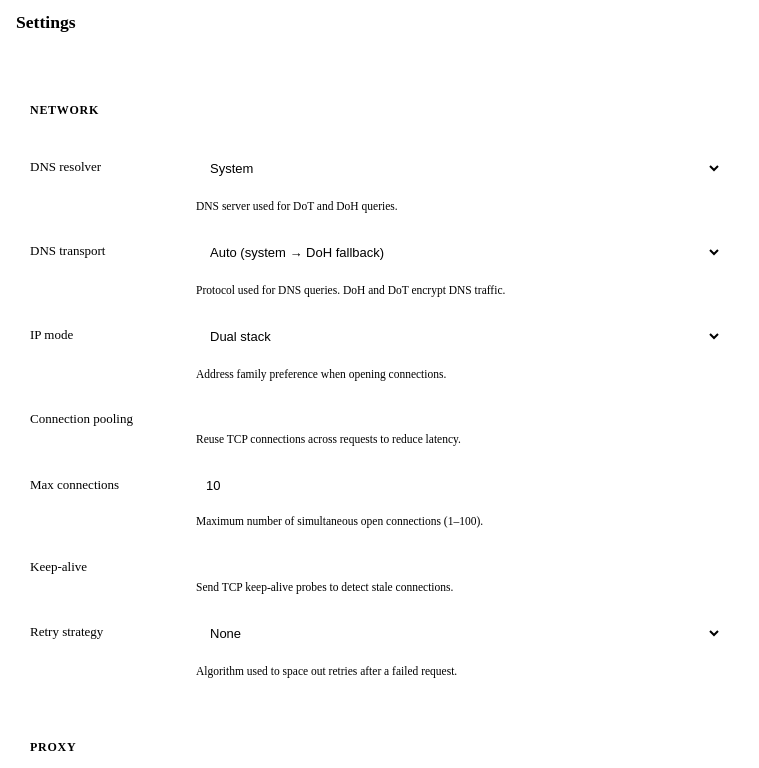
Settings — validation › shows error when max connections exceeds 100
Replace the text in the number field labelled "Max connections" with "200" at {"x": 469, "y": 486}, box [196,471,742,500]
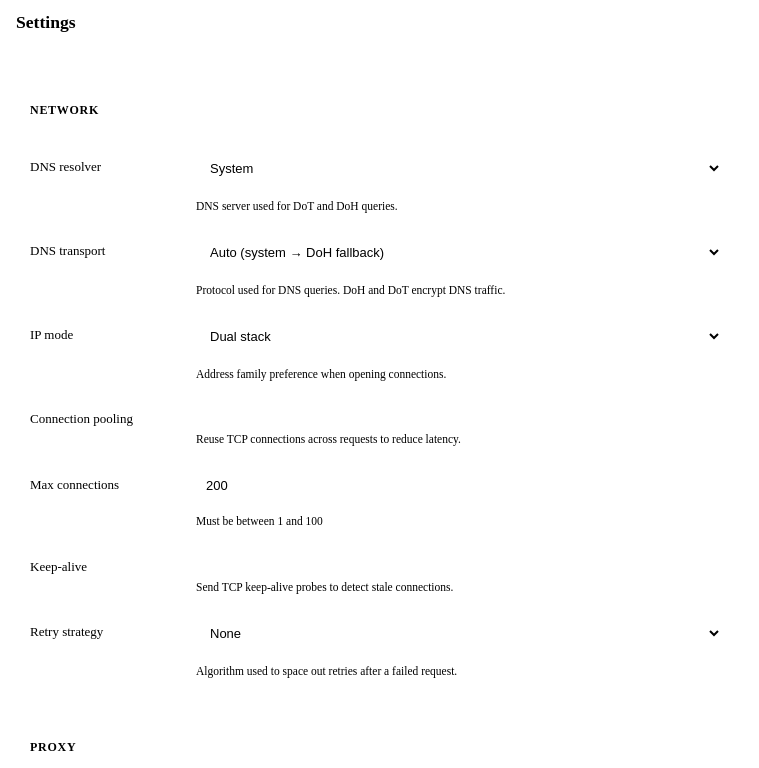
Now the text "Must be between 1 and 100" is shown, box [196,516,323,528]
